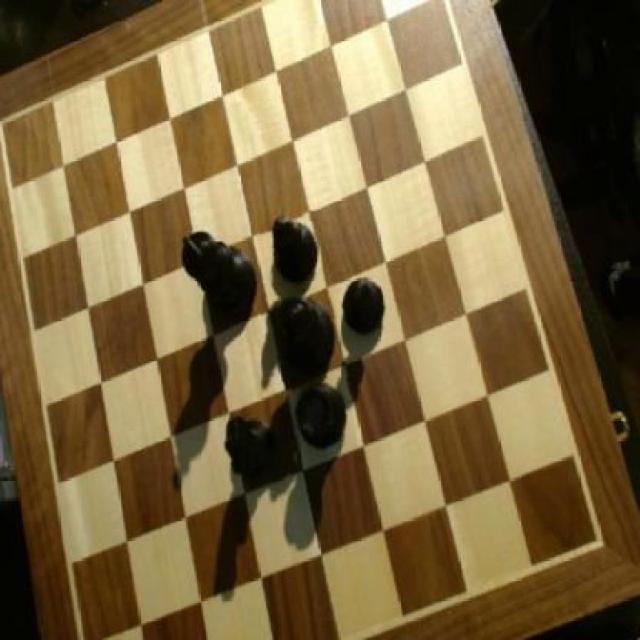bishop: (266, 212, 321, 282)
black-bishop: (177, 231, 261, 330)
black-king: (223, 414, 292, 493)
black-knight: (342, 276, 391, 338)
black-pawn: (272, 297, 340, 376)
black-queen: (294, 377, 357, 450)
